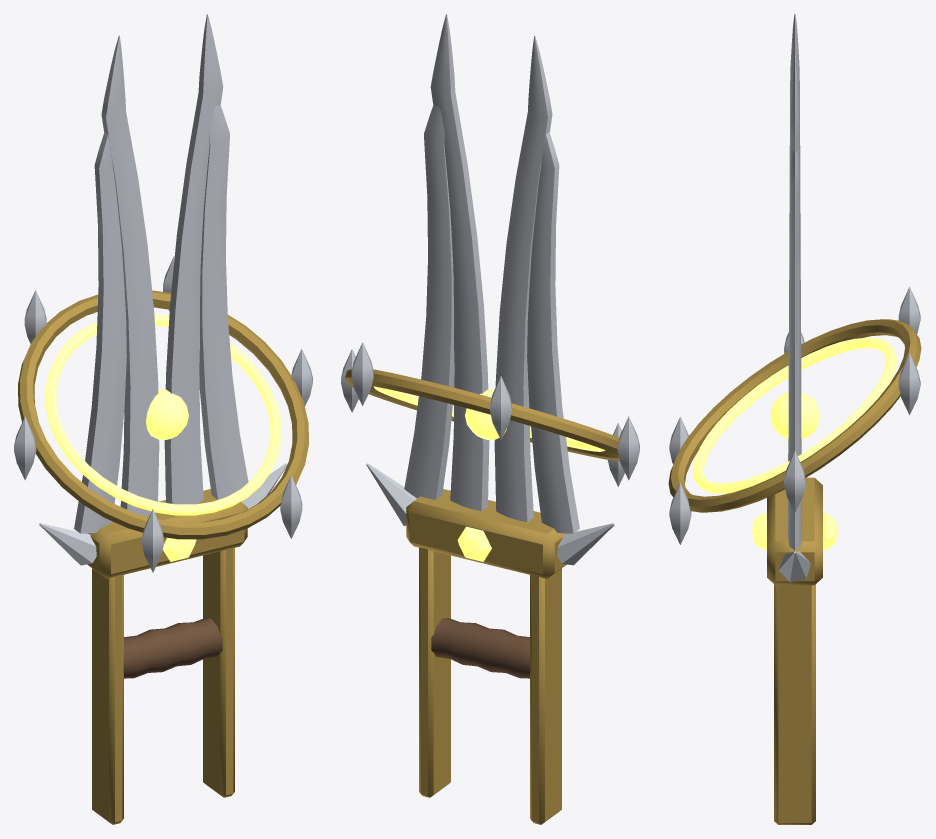
Rendered from esc_w_shadowblade_claw_8.glb.
3 renders of one model, left to right at view 1: azimuth 30°, elevation 25°; view 2: azimuth 150°, elevation 25°; view 3: azimuth 270°, elevation 25°, orthographic. The views are drawn at different scales.
Visible parts, largest first — view 1: esc_w_shadowblade_claw_8; view 2: esc_w_shadowblade_claw_8; view 3: esc_w_shadowblade_claw_8.
Boxes of the visible parts, <box> form: esc_w_shadowblade_claw_8: <box>14,14,312,824</box>; esc_w_shadowblade_claw_8: <box>341,14,639,824</box>; esc_w_shadowblade_claw_8: <box>668,14,921,824</box>.
Bounding box in the file's own units: 0.242 × 0.6029 × 0.1815.
